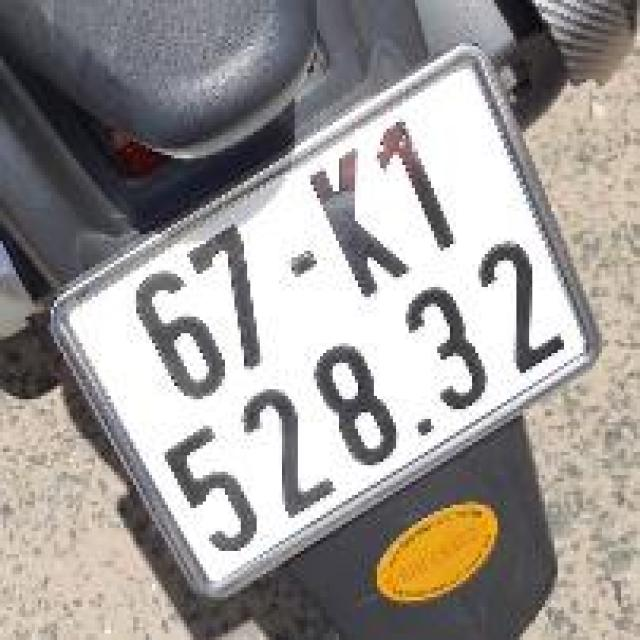1: (360, 103, 476, 264)
2: (224, 368, 345, 537), (460, 227, 581, 394)
3: (386, 271, 505, 433)
5: (148, 412, 271, 570)
6: (113, 257, 240, 420)
7: (178, 213, 285, 385)
8: (298, 332, 412, 482)
K: (291, 136, 424, 315)
